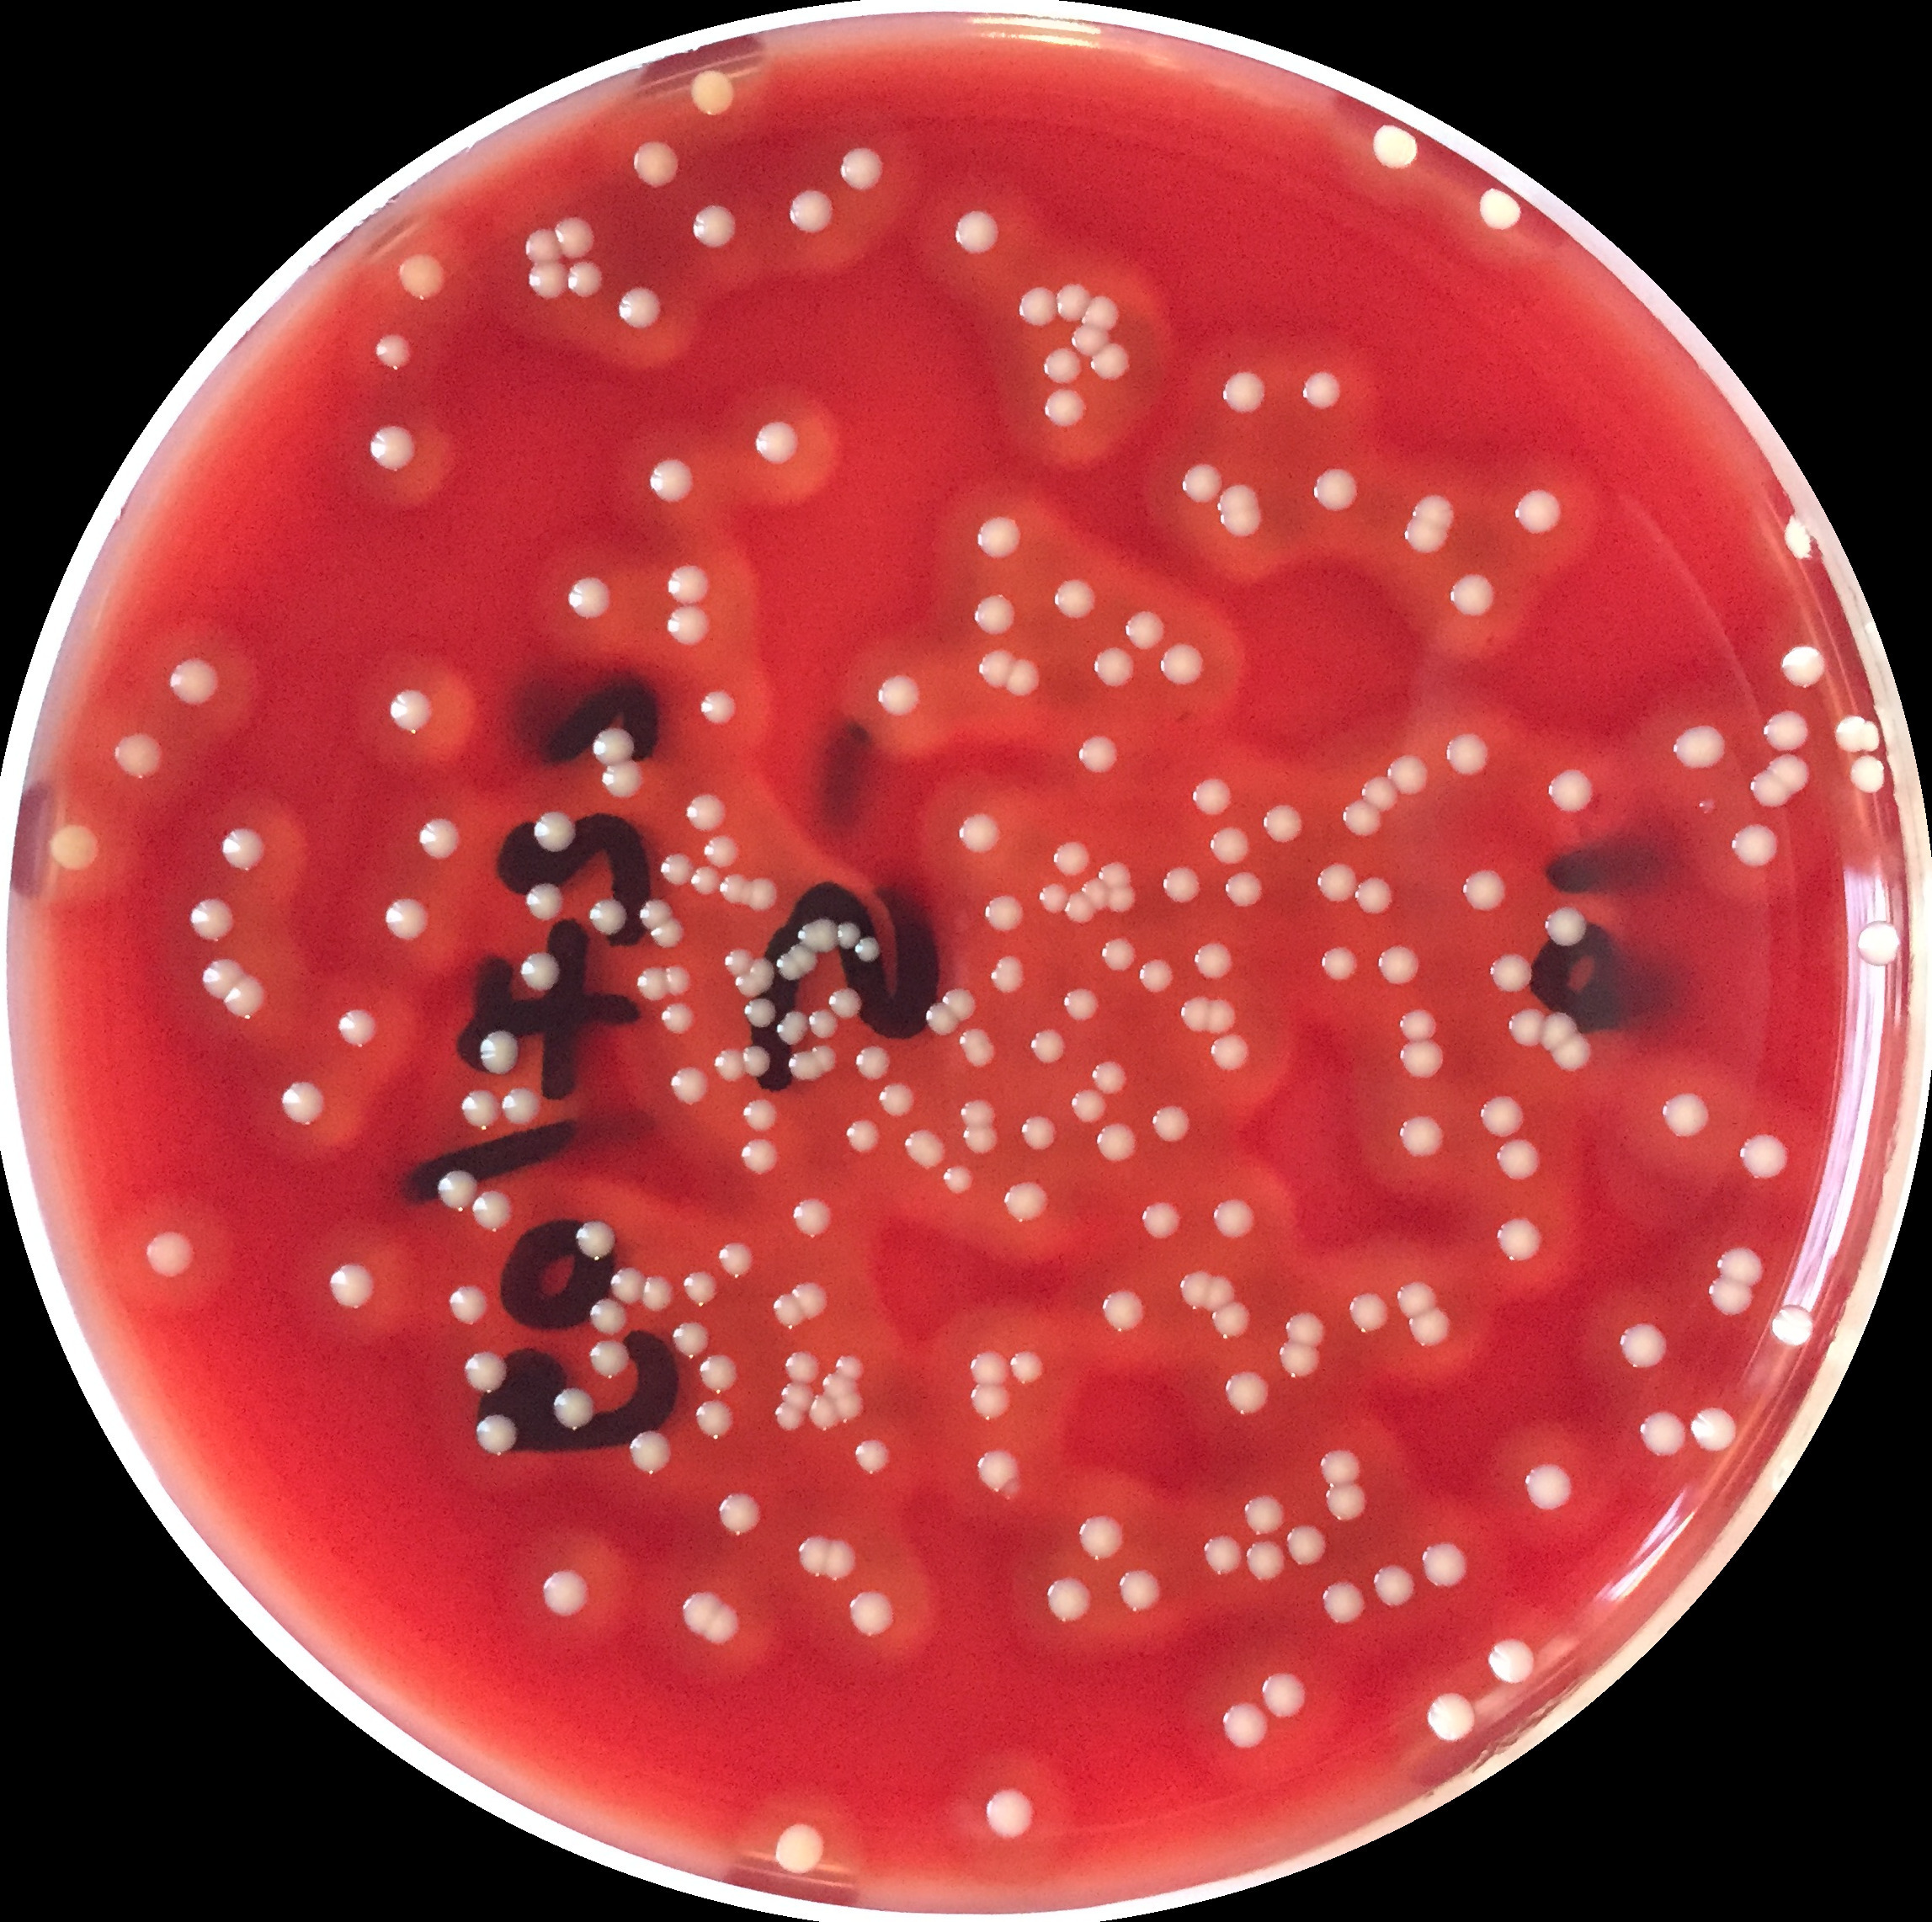sp21: (772, 1809, 834, 1882), (783, 1345, 860, 1401), (975, 1779, 1038, 1845), (361, 419, 429, 479), (684, 195, 755, 252), (683, 63, 744, 125), (1612, 1313, 1673, 1373), (162, 655, 225, 713), (783, 1185, 839, 1250), (1205, 1192, 1270, 1248), (1541, 760, 1599, 822), (781, 183, 841, 241), (1519, 1456, 1578, 1514), (1654, 1088, 1712, 1146), (625, 139, 684, 195), (107, 729, 167, 785), (1425, 1684, 1480, 1746), (945, 208, 1008, 259), (137, 1230, 201, 1281), (1758, 702, 1814, 759), (1098, 1281, 1154, 1338), (1483, 1630, 1540, 1686), (1397, 512, 1457, 565), (1670, 720, 1731, 771), (869, 672, 933, 722), (1309, 458, 1364, 514), (1513, 486, 1568, 542), (1441, 725, 1496, 781), (1494, 1213, 1548, 1269), (845, 1581, 899, 1637), (322, 1258, 377, 1315), (1735, 1126, 1793, 1179), (1684, 1403, 1742, 1456), (1365, 121, 1423, 174), (612, 283, 672, 334), (1038, 1574, 1098, 1625), (1341, 1285, 1395, 1339), (838, 141, 892, 195), (1049, 572, 1103, 627), (1853, 913, 1907, 968), (1218, 1698, 1274, 1751), (378, 892, 431, 949), (378, 686, 436, 737), (1390, 1111, 1450, 1160), (1779, 637, 1832, 692), (459, 1345, 512, 1399), (686, 1343, 741, 1396), (392, 252, 449, 303), (1420, 1533, 1471, 1589), (1253, 1670, 1309, 1721), (273, 1075, 329, 1126), (44, 824, 104, 871), (179, 896, 239, 943), (644, 449, 697, 502), (1730, 817, 1782, 869), (1364, 1559, 1420, 1609), (975, 517, 1033, 565), (561, 574, 616, 623), (663, 604, 718, 653), (540, 1566, 596, 1614), (1072, 730, 1123, 781), (1397, 1035, 1448, 1086), (973, 1447, 1026, 1496), (1197, 1528, 1246, 1581), (1297, 363, 1344, 417), (1153, 861, 1207, 908), (1714, 1239, 1768, 1287), (999, 1176, 1054, 1223), (216, 825, 271, 873), (331, 1007, 385, 1054), (472, 1031, 526, 1079), (955, 810, 1010, 857), (588, 1290, 633, 1346), (526, 808, 582, 854), (1763, 746, 1814, 796), (1459, 864, 1510, 913), (1638, 1405, 1687, 1456), (1205, 1297, 1256, 1346), (1318, 1577, 1367, 1628), (626, 1424, 676, 1475), (584, 1336, 633, 1387), (431, 1167, 482, 1216), (1475, 185, 1526, 234), (1475, 1088, 1527, 1135), (1406, 1299, 1453, 1352), (750, 419, 804, 465), (1450, 565, 1496, 620), (1219, 363, 1269, 412), (1191, 936, 1240, 986), (1223, 1369, 1272, 1419), (222, 972, 271, 1021), (1158, 639, 1205, 690), (1205, 824, 1256, 871), (1313, 855, 1360, 906), (1075, 1514, 1126, 1561), (663, 560, 714, 607), (413, 813, 461, 864), (468, 1412, 521, 1457), (568, 1218, 623, 1262), (1406, 488, 1462, 530), (1538, 899, 1587, 947), (1091, 1116, 1140, 1163), (709, 1237, 758, 1285), (1117, 609, 1168, 655), (1089, 642, 1140, 688), (1775, 512, 1821, 563), (1846, 748, 1892, 799), (1494, 1137, 1545, 1183), (1059, 1082, 1110, 1128), (1131, 1192, 1182, 1237), (1240, 1493, 1292, 1538), (1244, 1533, 1290, 1584), (1770, 1299, 1814, 1352), (586, 723, 639, 767), (1480, 952, 1534, 994), (1177, 458, 1225, 505), (966, 1380, 1014, 1427), (714, 1487, 762, 1535), (954, 1026, 1001, 1074), (1374, 942, 1423, 987), (1114, 1561, 1160, 1610), (551, 1383, 596, 1433), (681, 787, 730, 833), (971, 595, 1022, 639), (443, 1281, 494, 1325), (1014, 280, 1061, 326), (195, 952, 243, 998), (517, 949, 565, 994), (1040, 345, 1089, 389), (1042, 384, 1091, 428), (1256, 801, 1306, 845), (1707, 1269, 1756, 1313), (1283, 1519, 1327, 1568), (1277, 1338, 1328, 1380), (702, 1600, 744, 1651), (466, 1192, 519, 1232), (1503, 1003, 1548, 1049), (1147, 1100, 1193, 1146), (521, 880, 567, 926), (584, 894, 630, 940), (457, 1088, 503, 1133), (1186, 771, 1233, 815), (1351, 873, 1395, 921), (901, 1126, 948, 1170), (692, 1396, 739, 1440), (1830, 713, 1879, 755), (1385, 752, 1434, 794), (1316, 943, 1365, 986), (366, 327, 417, 368), (523, 225, 568, 269), (1209, 1030, 1255, 1074), (1390, 1274, 1434, 1320), (697, 686, 741, 732), (973, 644, 1015, 692), (1084, 1054, 1131, 1097), (964, 1345, 1012, 1387), (1314, 1445, 1362, 1487), (1211, 477, 1260, 517), (1357, 774, 1406, 815), (846, 1436, 896, 1477), (1339, 799, 1390, 838), (681, 1586, 720, 1637), (667, 1063, 711, 1107), (526, 259, 572, 301), (1094, 933, 1140, 975), (600, 759, 646, 801), (985, 954, 1031, 996), (1065, 317, 1112, 357), (980, 892, 1028, 933), (1087, 338, 1131, 380), (560, 257, 605, 297), (553, 215, 598, 255), (1047, 836, 1093, 877), (1057, 986, 1103, 1026), (795, 915, 841, 956), (737, 1137, 783, 1177), (1003, 655, 1042, 702), (672, 1315, 711, 1362), (1054, 276, 1089, 327), (1749, 771, 1791, 813), (500, 1084, 542, 1126), (1394, 1007, 1438, 1047), (852, 1042, 896, 1082), (787, 1280, 831, 1320), (954, 1095, 1003, 1130), (1223, 868, 1263, 910), (1003, 1345, 1043, 1387), (1323, 1478, 1365, 1519), (1028, 1026, 1070, 1067), (739, 1097, 781, 1137), (1080, 289, 1119, 333), (1175, 1267, 1211, 1315), (825, 1537, 860, 1584), (1021, 1109, 1059, 1151), (959, 1121, 1003, 1158), (797, 1533, 832, 1579), (1536, 1010, 1577, 1049), (1552, 1030, 1592, 1068), (656, 852, 697, 891), (658, 998, 699, 1037), (841, 1118, 882, 1156), (1175, 991, 1212, 1033), (683, 1267, 720, 1309), (917, 1003, 959, 1040), (1133, 959, 1177, 994), (711, 1049, 750, 1088), (878, 1081, 917, 1119), (767, 1295, 806, 1334), (607, 1260, 642, 1302), (823, 986, 866, 1021), (1216, 510, 1267, 539), (639, 1274, 676, 1313), (704, 833, 743, 869), (632, 965, 670, 1001), (804, 1396, 843, 1433), (743, 994, 783, 1030), (1205, 996, 1239, 1038), (804, 1007, 843, 1042), (1035, 880, 1072, 915), (635, 896, 672, 931), (850, 933, 887, 968), (940, 989, 977, 1024), (1061, 889, 1094, 928), (1202, 1271, 1235, 1309), (787, 1049, 825, 1082), (829, 1390, 867, 1424), (1286, 1309, 1327, 1341), (648, 919, 688, 950), (1075, 875, 1110, 910), (940, 1162, 975, 1197), (744, 877, 779, 912), (785, 942, 822, 975), (1096, 861, 1135, 892), (720, 947, 757, 979), (831, 1353, 869, 1383), (1103, 882, 1138, 913), (741, 1044, 772, 1079), (718, 871, 748, 908), (771, 1405, 808, 1434), (688, 864, 721, 896), (808, 1042, 839, 1075), (663, 963, 693, 998), (748, 959, 779, 991), (834, 917, 864, 950), (779, 1383, 815, 1412), (776, 954, 806, 982), (734, 972, 765, 998), (772, 1021, 806, 1045), (779, 1007, 809, 1031)
